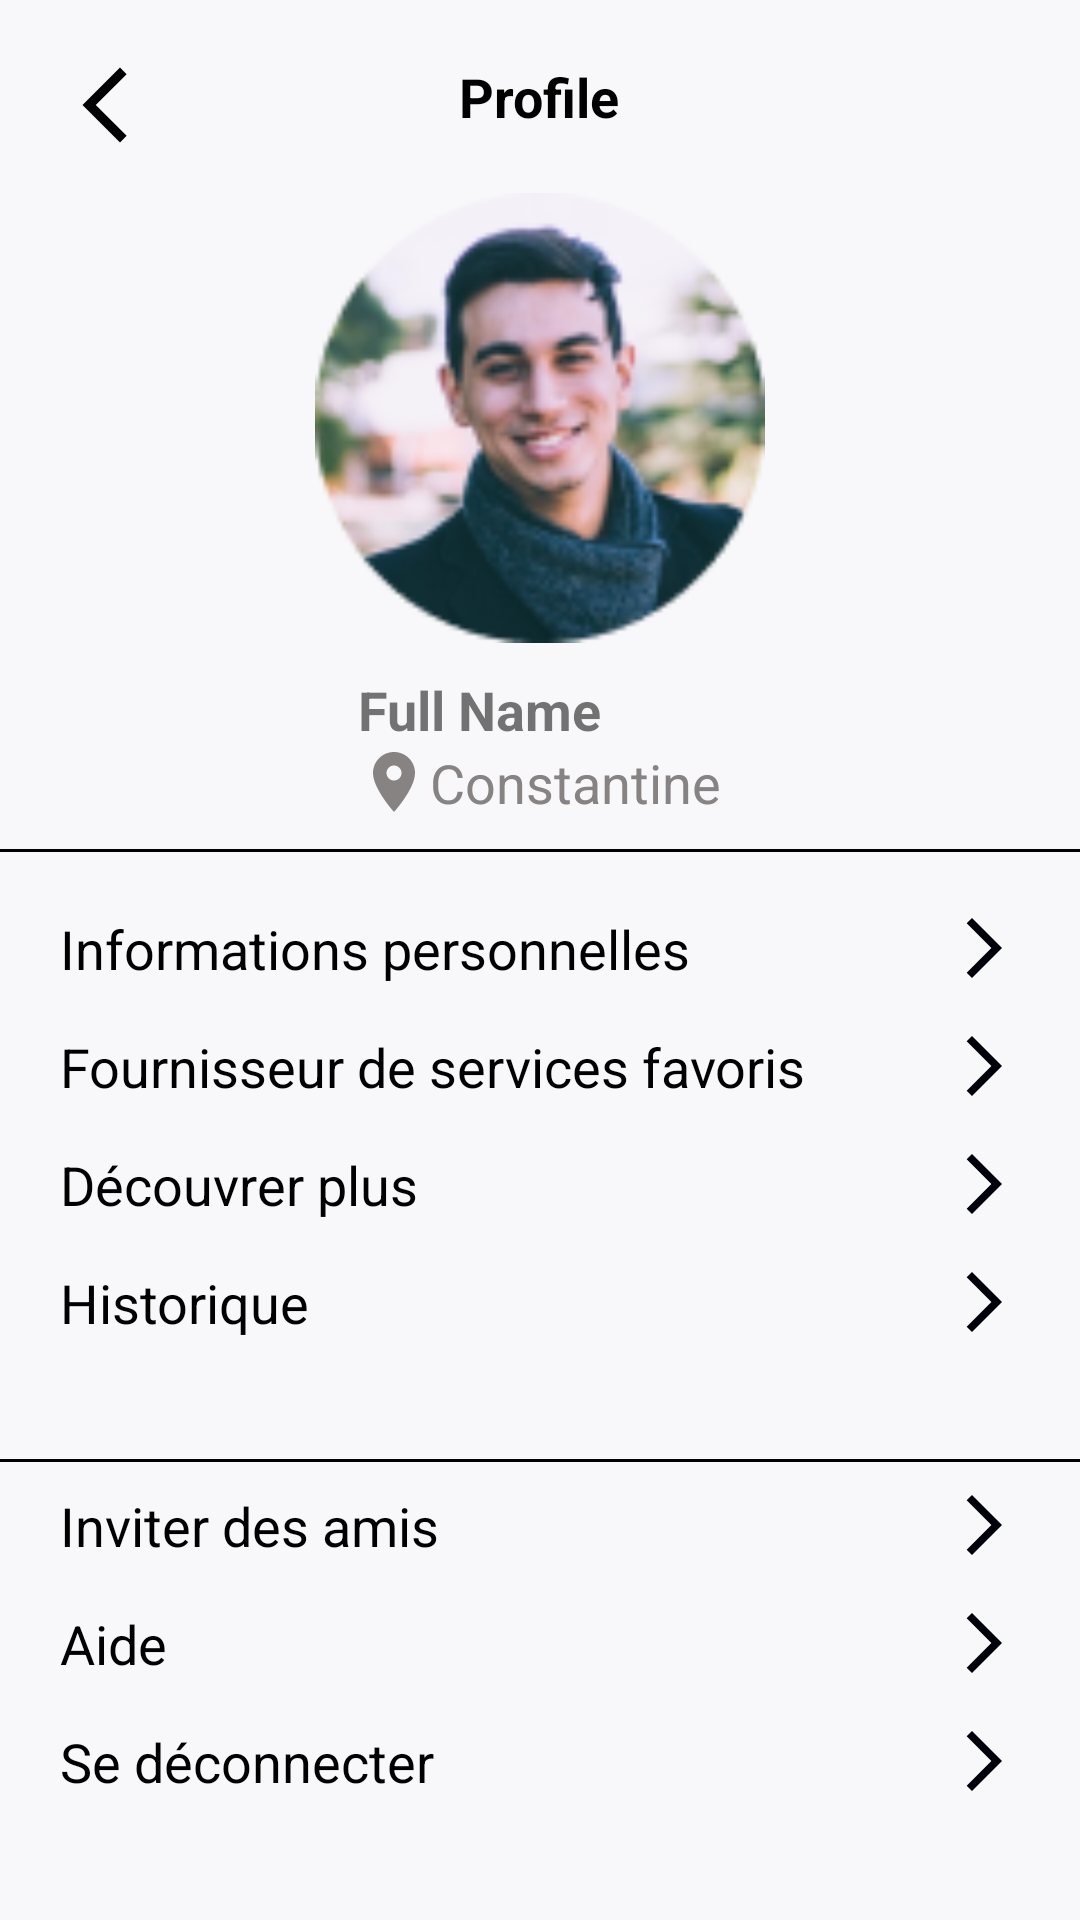

Point at icon controls on the screen. Image size 1080×1920, points as [x,y].
back: [104,105]
